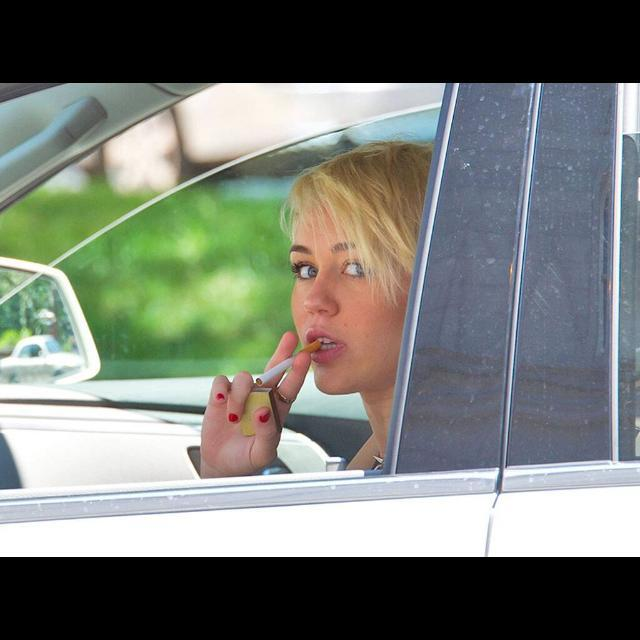rokok: (247, 336, 327, 389)
